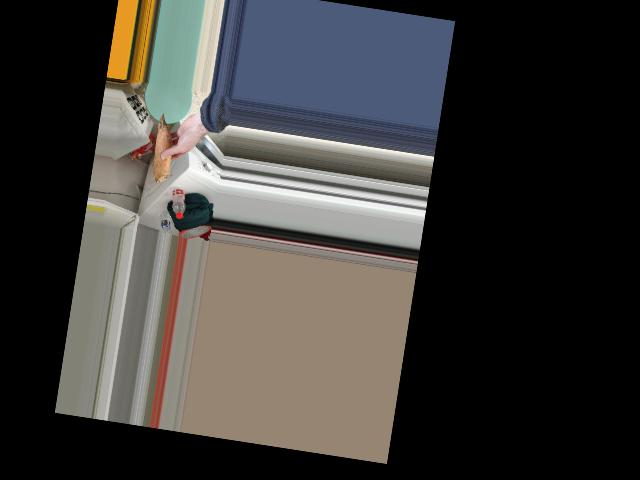sweet_potato: (151, 115, 182, 178)
